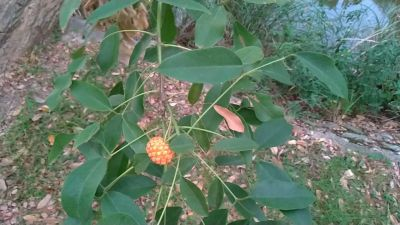eggs: (146, 135, 174, 165)
